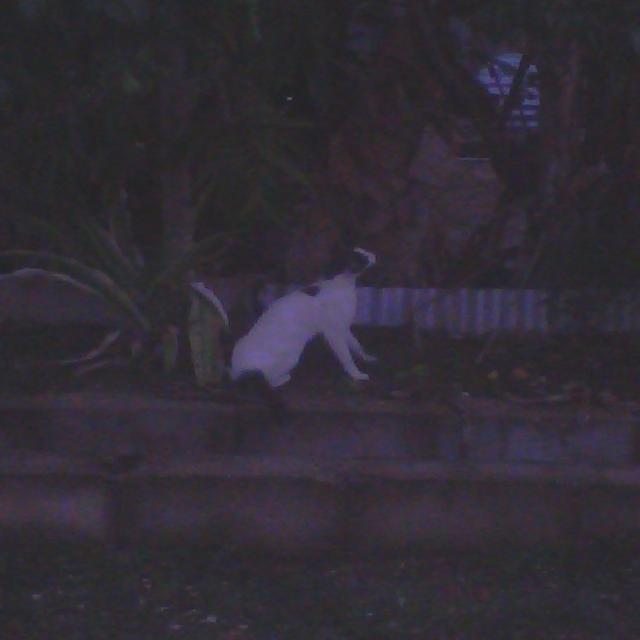Cat: (227, 231, 402, 420)
